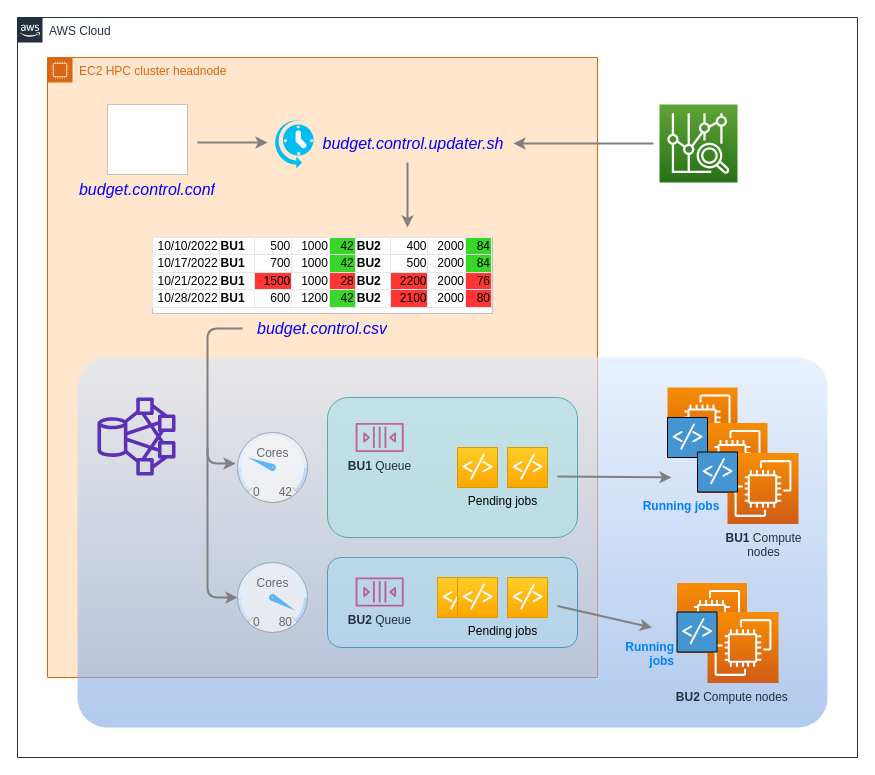
This 875x775 diagram has some shape labels left out. The centre of each missing label's shape, as x and y in pixels:
"AWS Cost Explorer" belongs at point (698, 143).
"BU1 1000 BU2 2000 BU3 3000" belongs at point (147, 139).
"HPC Scheduler" belongs at point (136, 436).
